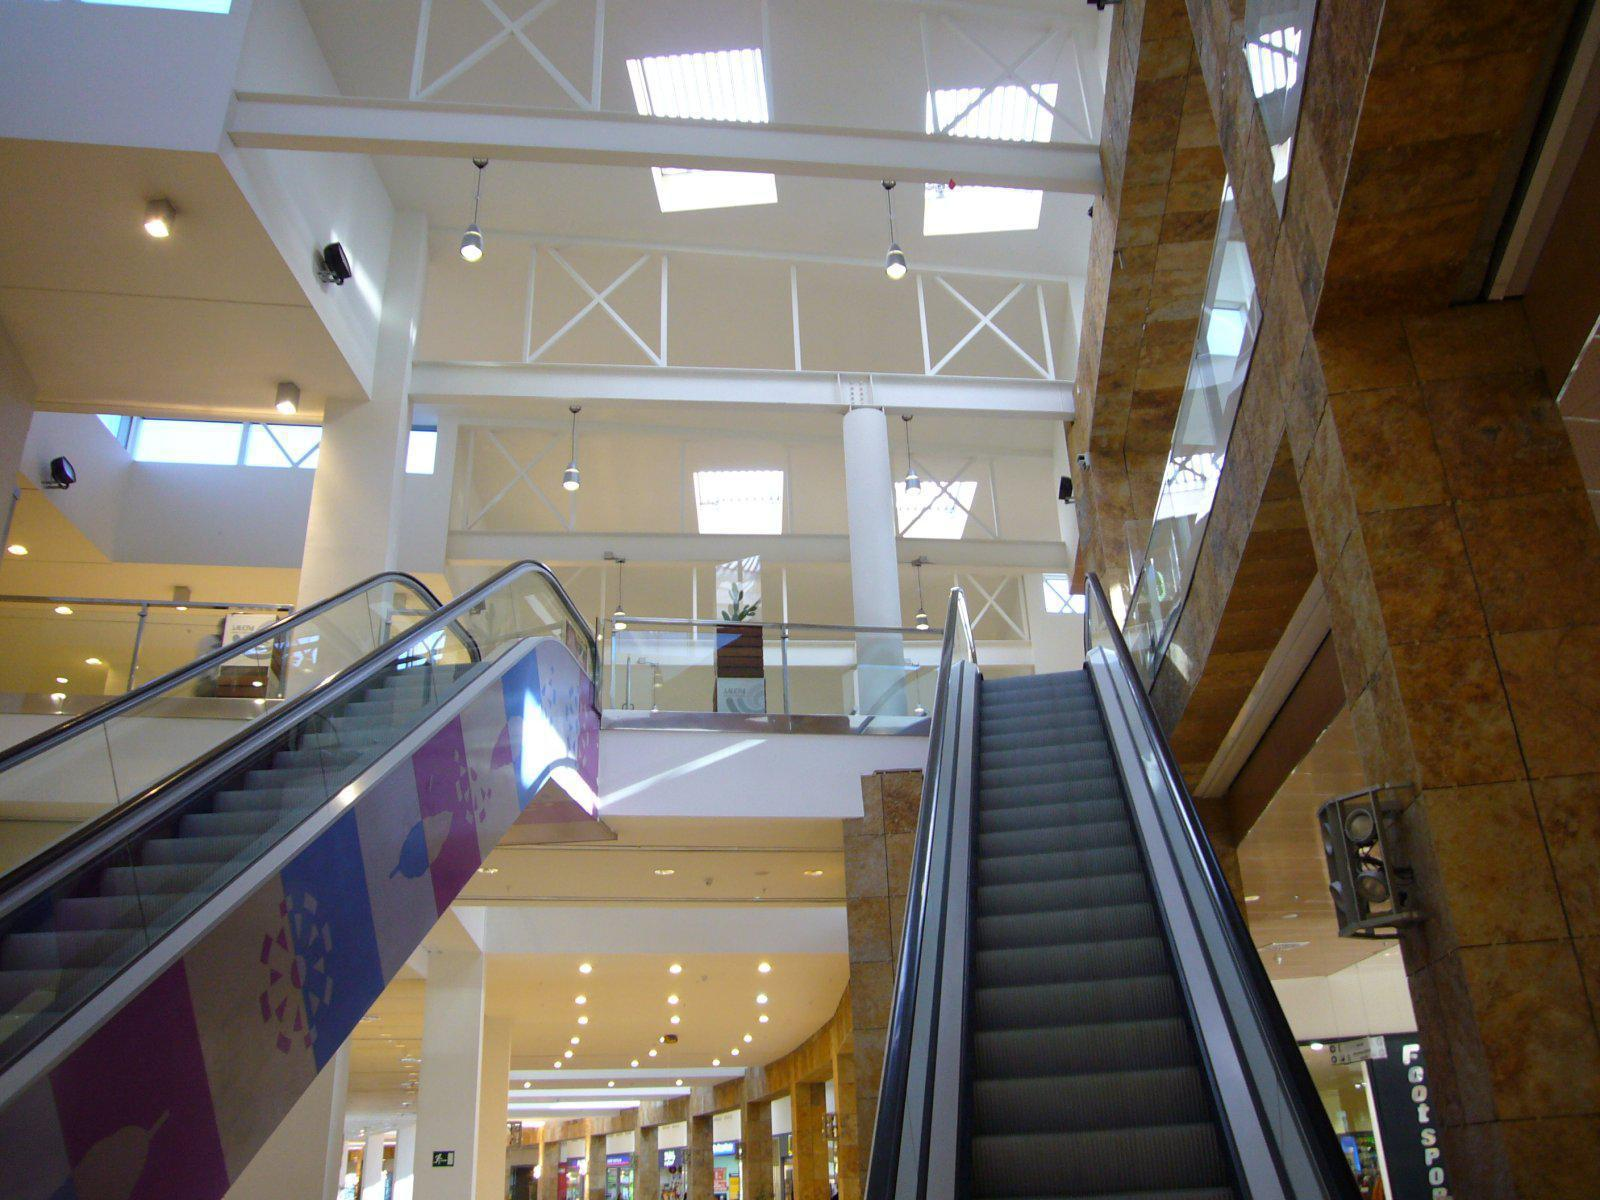Escaleras: (0, 614, 598, 1184), (908, 577, 1346, 1199)
